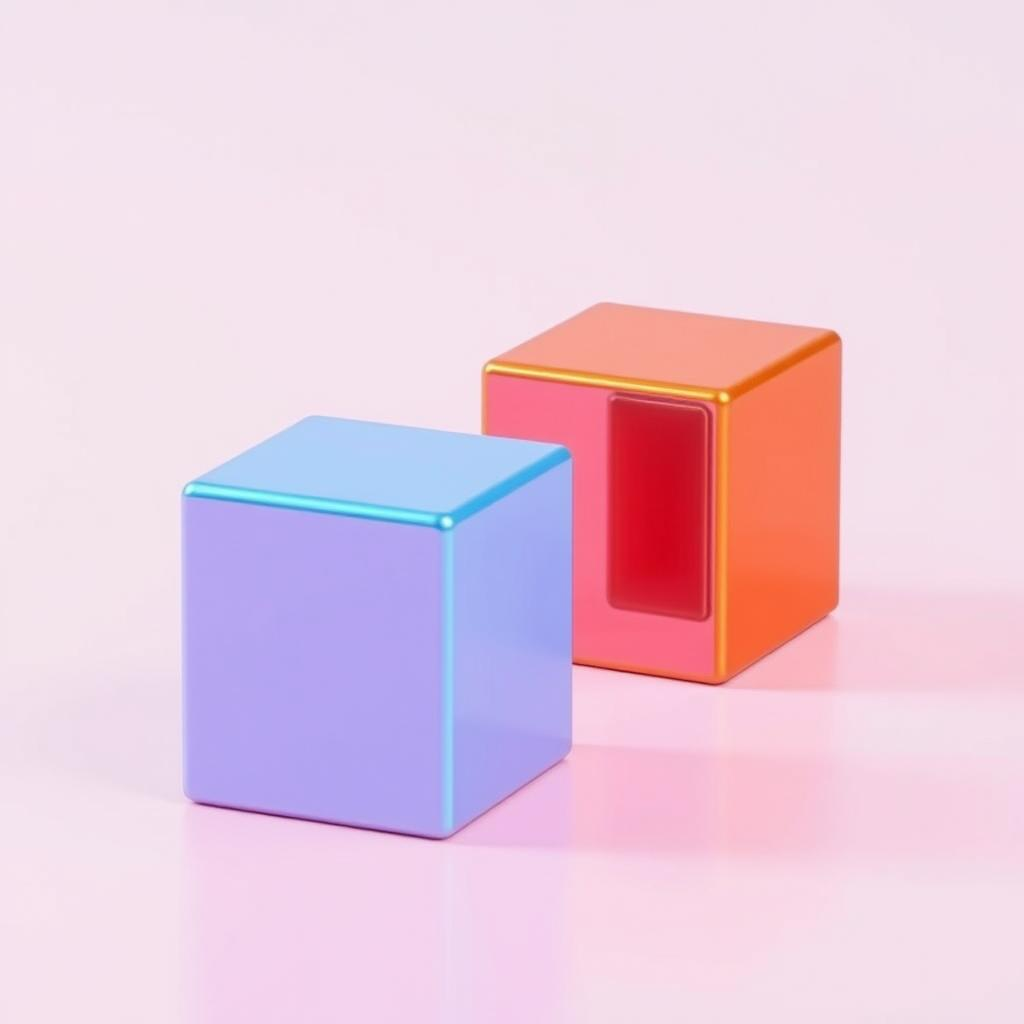cube: (179, 412, 574, 839), (480, 299, 842, 685)
